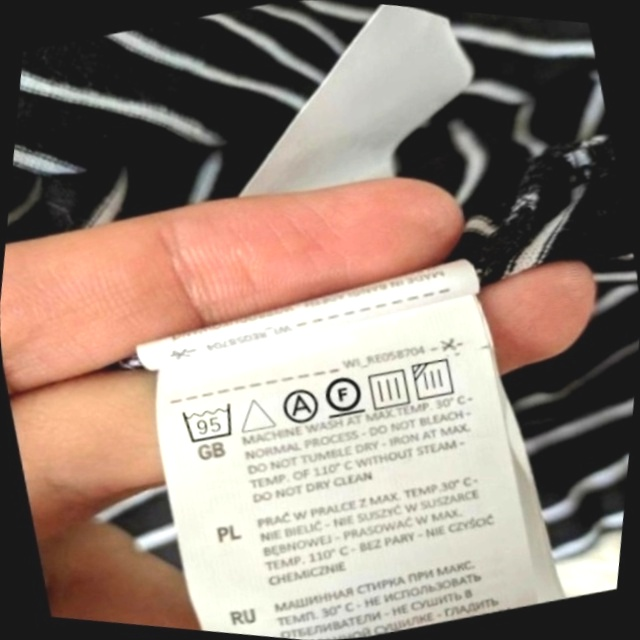95C: (171, 389, 248, 456)
bleach: (228, 384, 284, 443)
drip_dry: (357, 356, 422, 420)
drip_dry_in_shade: (402, 346, 469, 413)
dry_clean: (271, 378, 328, 434)
dry_clean_petrol_only: (313, 362, 375, 428)
